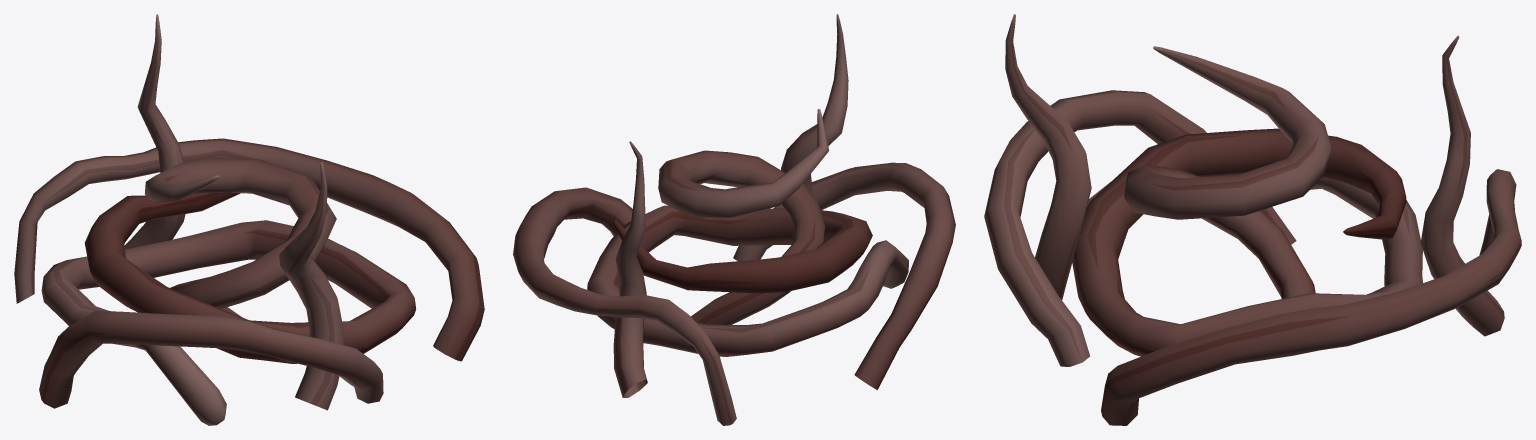
File: MagicRoot_002_Color_D.fbx
3 views of the same model, side by side, from view 1: azimuth 30°, elevation 25°; view 2: azimuth 150°, elevation 25°; view 3: azimuth 270°, elevation 25° (orthographic). The views are drawn at different scales.
Parts seen in each view (by area): view 1: MagicRoot_002_Color_D; view 2: MagicRoot_002_Color_D; view 3: MagicRoot_002_Color_D.
Part boxes in pixels (<box>): MagicRoot_002_Color_D: <box>14,14,484,425</box>; MagicRoot_002_Color_D: <box>513,14,955,425</box>; MagicRoot_002_Color_D: <box>984,14,1521,425</box>.
Bounding box in the file's own units: 155 × 105 × 155.
